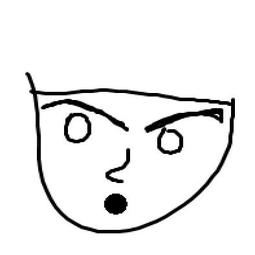empty_eye: (57, 108, 95, 145), (153, 123, 187, 164)
frowning_eyebrow: (42, 94, 130, 133), (141, 107, 224, 134)
nose: (98, 142, 136, 188)
open_mouth: (96, 189, 129, 219)
